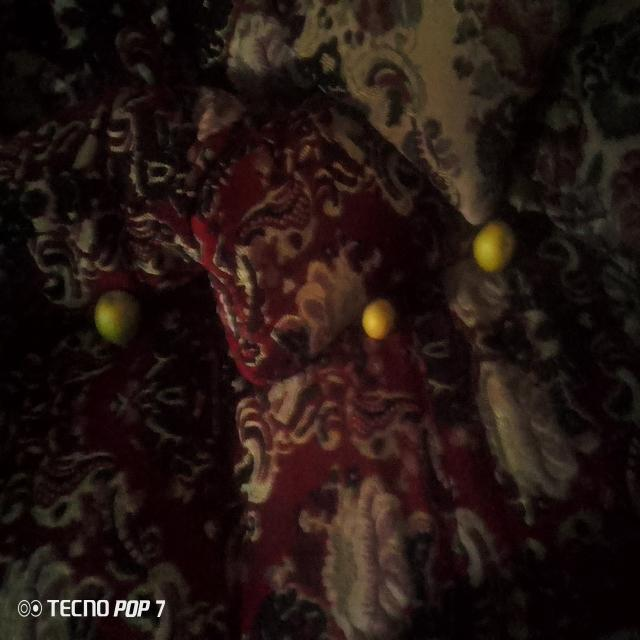Ripe orange: (464, 221, 520, 277), (99, 284, 144, 346), (349, 298, 401, 337)
